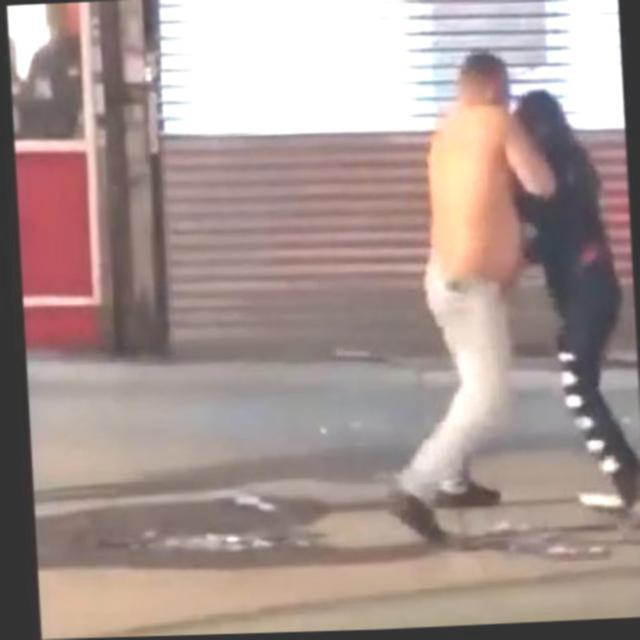fight: (394, 50, 634, 522)
